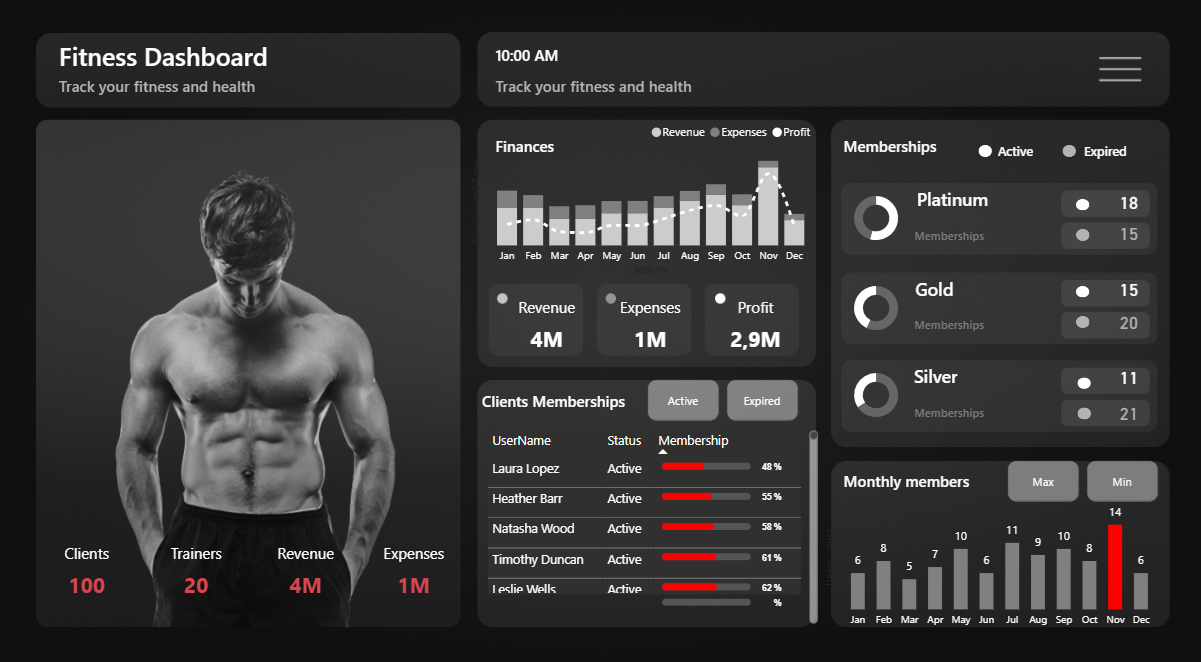

The page's visual inventory and layout, read from the dashboard file:
{"tool":"powerbi","page":{"name":"Page 1","canvas":[1280,720],"ordinal":0},"visuals":[{"type":"cardVisual","fields":{"Data":["_Measures.Users_count"]},"box":[41.6,562.5,110,80],"z":0},{"type":"cardVisual","fields":{"Data":["Count(Users.Trainer Name)"]},"box":[157.2,562.5,110,80],"z":1000},{"type":"cardVisual","fields":{"Data":["_Measures.Revenue"]},"box":[272.9,562.4,110,80],"z":2000},{"type":"cardVisual","fields":{"Data":["_Measures.Expenses"]},"box":[388.6,562.4,110,80],"z":3000},{"type":"cardVisual","fields":{"Data":["_Measures.Profit"]},"box":[738,302.2,135.2,79.5],"z":4000},{"type":"cardVisual","fields":{"Data":["_Measures.Expenses"]},"box":[639.4,302.2,109.8,79.5],"z":5000},{"type":"cardVisual","fields":{"Data":["_Measures.Revenue"]},"box":[529.7,302.2,109.8,79.5],"z":6000},{"type":"lineStackedColumnComboChart","fields":{"Y":["_Measures.Revenue","_Measures.Expenses"],"Y2":["_Measures.Profit"],"Category":["Calendar.MONTH"]},"box":[497.9,125.7,375.4,176.6],"z":7000},{"type":"shape","box":[529.7,143.2,144.7,33.4],"z":8000},{"type":"clusteredColumnChart","fields":{"Y":["_Measures.Users_count"],"Category":["Calendar.MONTH"]},"box":[873.2,526.5,364.2,152.7],"z":9000},{"type":"shape","box":[898.7,497.9,144.7,33.4],"z":10000},{"type":"advancedSlicerVisual","fields":{"Values":["Max_Min_Switch.Type"]},"box":[1067.3,488.3,170.2,54.1],"z":11000},{"type":"tableEx","fields":{"Values":["Users.UserName","Users.Status","_Measures.SVG_BarChart1"]},"box":[515.4,456.5,361.1,214.7],"z":12000},{"type":"advancedSlicerVisual","fields":{"Values":["Users.Status"]},"box":[685.6,402.4,170.2,54.1],"z":13000},{"type":"shape","box":[515.4,413.6,159.1,33.4],"z":14000},{"type":"shape","box":[941.6,198.8,144.7,33.4],"z":15000},{"type":"shape","box":[922.6,294.3,144.7,33.4],"z":16000},{"type":"shape","box":[924.1,386.5,144.7,33.4],"z":17000},{"type":"shape","box":[937.9,238.5,144.7,33.4],"z":18000},{"type":"shape","box":[937.9,332.4,144.7,33.4],"z":19000},{"type":"shape","box":[937.9,426.2,144.7,33.4],"z":20000},{"type":"donutChart","fields":{"Y":["_Measures.User_Platinum"],"Category":["Users.Status"]},"box":[898.7,200.4,68.4,71.6],"z":20001},{"type":"donutChart","fields":{"Category":["Users.Status"],"Y":["_Measures.User_Gold"]},"box":[898.7,295.9,68.4,71.6],"z":20002},{"type":"donutChart","fields":{"Category":["Users.Status"],"Y":["_Measures.User_Silver"]},"box":[898.7,388.1,68.4,71.6],"z":20003},{"type":"card","fields":{"Values":["_Measures.Platinum_Active"]},"box":[1153.2,200.4,95.4,39.8],"z":20004},{"type":"card","fields":{"Values":["_Measures.Platinum_Expired"]},"box":[1153.2,233.8,95.4,39.8],"z":20005},{"type":"card","fields":{"Values":["_Measures.Gold_Active"]},"box":[1153.2,292.7,95.4,39.8],"z":20006},{"type":"card","fields":{"Values":["_Measures.Gold_Expired"]},"box":[1153.2,327.7,95.4,39.8],"z":20007},{"type":"card","fields":{"Values":["_Measures.Silver_Active"]},"box":[1153.2,386.5,95.4,39.8],"z":20008},{"type":"card","fields":{"Values":["_Measures.Silver_Expired"]},"box":[1153.2,424.7,95.4,39.8],"z":20009},{"type":"shape","box":[1145.2,216.3,14,12],"z":20010},{"type":"shape","box":[1145.2,248.1,14.3,12.7],"z":20011},{"type":"shape","box":[1145.7,309,14,12],"z":20012},{"type":"shape","box":[1145.7,340.8,14.3,12.7],"z":20013},{"type":"shape","box":[1147.2,404.9,14,12],"z":20014},{"type":"shape","box":[1147.2,436.7,14.3,12.7],"z":20015},{"type":"shape","box":[898.7,143.2,144.7,33.4],"z":20016},{"type":"shape","box":[1041.9,159.1,14.3,12.7],"z":20017},{"type":"shape","box":[1008.4,147.9,144.7,33.4],"z":20018},{"type":"shape","box":[1130.9,159.1,14.3,12.7],"z":20019},{"type":"shape","box":[1103.9,147.9,144.7,33.4],"z":20020},{"type":"shape","box":[66.8,46.1,237,33.4],"z":20021},{"type":"shape","box":[66.8,79.5,237,33.4],"z":20022},{"type":"image","box":[1151.6,46.1,82.7,66.8],"z":20023},{"type":"shape","box":[529.7,46.1,144.7,33.4],"z":20024},{"type":"shape","box":[529.7,79.5,237,33.4],"z":20025}]}

Visuals, with their boxes in screenshot pixels (x1, y1, x2, y2), scaled from the page's 1280x720 canvas onto the 1201x662 screenshot:
cardVisual - _Measures.Users_count: bbox=[39, 517, 142, 591]
cardVisual - Count(Users.Trainer Name): bbox=[147, 517, 251, 591]
cardVisual - _Measures.Revenue: bbox=[256, 517, 359, 591]
cardVisual - _Measures.Expenses: bbox=[365, 517, 468, 591]
cardVisual - _Measures.Profit: bbox=[692, 278, 819, 351]
cardVisual - _Measures.Expenses: bbox=[600, 278, 703, 351]
cardVisual - _Measures.Revenue: bbox=[497, 278, 600, 351]
lineStackedColumnComboChart - _Measures.Revenue x _Measures.Expenses: bbox=[467, 116, 819, 278]
shape: bbox=[497, 132, 633, 162]
clusteredColumnChart - _Measures.Users_count x Calendar.MONTH: bbox=[819, 484, 1161, 624]
shape: bbox=[843, 458, 979, 489]
advancedSlicerVisual - Max_Min_Switch.Type: bbox=[1001, 449, 1161, 499]
tableEx - Users.UserName x Users.Status: bbox=[484, 420, 822, 617]
advancedSlicerVisual - Users.Status: bbox=[643, 370, 803, 420]
shape: bbox=[484, 380, 633, 411]
shape: bbox=[883, 183, 1019, 213]
shape: bbox=[866, 271, 1001, 301]
shape: bbox=[867, 355, 1003, 386]
shape: bbox=[880, 219, 1016, 250]
shape: bbox=[880, 306, 1016, 336]
shape: bbox=[880, 392, 1016, 423]
donutChart - _Measures.User_Platinum x Users.Status: bbox=[843, 184, 907, 250]
donutChart - Users.Status x _Measures.User_Gold: bbox=[843, 272, 907, 338]
donutChart - Users.Status x _Measures.User_Silver: bbox=[843, 357, 907, 423]
card - _Measures.Platinum_Active: bbox=[1082, 184, 1172, 221]
card - _Measures.Platinum_Expired: bbox=[1082, 215, 1172, 252]
card - _Measures.Gold_Active: bbox=[1082, 269, 1172, 306]
card - _Measures.Gold_Expired: bbox=[1082, 301, 1172, 338]
card - _Measures.Silver_Active: bbox=[1082, 355, 1172, 392]
card - _Measures.Silver_Expired: bbox=[1082, 390, 1172, 427]
shape: bbox=[1075, 199, 1088, 210]
shape: bbox=[1075, 228, 1088, 240]
shape: bbox=[1075, 284, 1088, 295]
shape: bbox=[1075, 313, 1088, 325]
shape: bbox=[1076, 372, 1090, 383]
shape: bbox=[1076, 402, 1090, 413]
shape: bbox=[843, 132, 979, 162]
shape: bbox=[978, 146, 991, 158]
shape: bbox=[946, 136, 1082, 167]
shape: bbox=[1061, 146, 1075, 158]
shape: bbox=[1036, 136, 1172, 167]
shape: bbox=[63, 42, 285, 73]
shape: bbox=[63, 73, 285, 104]
image: bbox=[1081, 42, 1158, 104]
shape: bbox=[497, 42, 633, 73]
shape: bbox=[497, 73, 719, 104]
